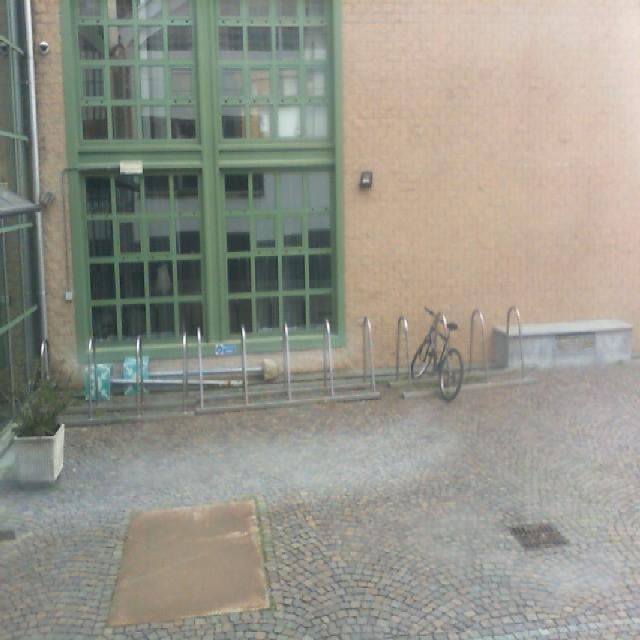Bicycle: (412, 307, 473, 424)
